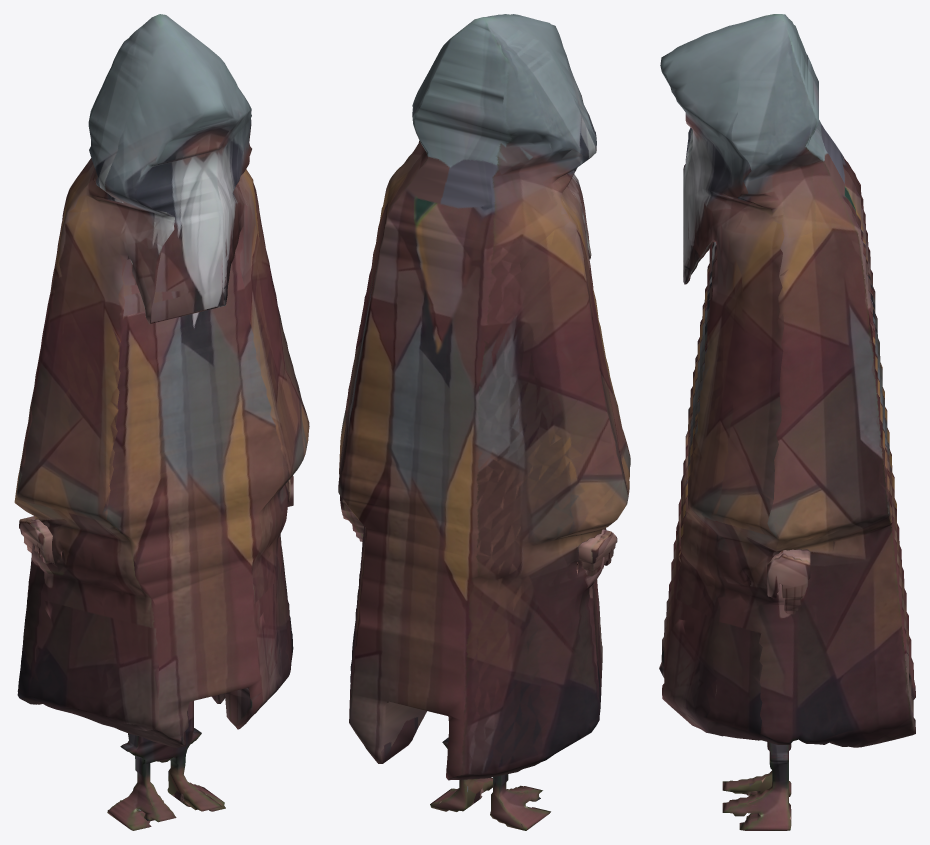
Rendered from magnus.glb.
The picture shows the model from 3 angles, left to right: view 1: azimuth 30°, elevation 25°; view 2: azimuth 150°, elevation 25°; view 3: azimuth 270°, elevation 25°; orthographic projection.
Parts seen in each view (by area): view 1: magnus; view 2: magnus; view 3: magnus.
Boxes of the visible parts, bbox=[...] form: magnus: bbox=[14, 14, 309, 830]; magnus: bbox=[338, 14, 630, 830]; magnus: bbox=[659, 14, 915, 830].
Size of the model in its own units: 0.6796 by 1.79 by 0.5241.
Materials: 1 (1 with a texture image).
